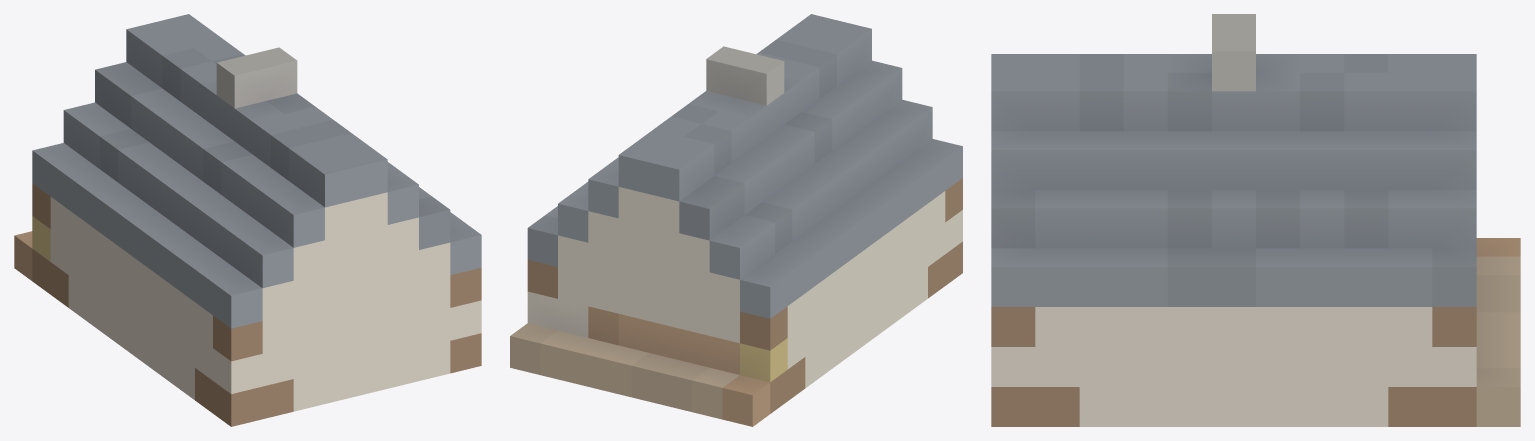
The model's file is cooperage.lite.glb.
3 renders of one model, left to right at view 1: azimuth 30°, elevation 25°; view 2: azimuth 150°, elevation 25°; view 3: azimuth 270°, elevation 25°, orthographic. The views are drawn at different scales.
Visible parts, largest first — view 1: cooperage; view 2: cooperage; view 3: cooperage.
Boxes of the visible parts, <box> form: cooperage: <box>14,14,481,426</box>; cooperage: <box>510,14,962,426</box>; cooperage: <box>991,14,1520,426</box>.
Size of the model in its own units: 4 by 4 by 6.
